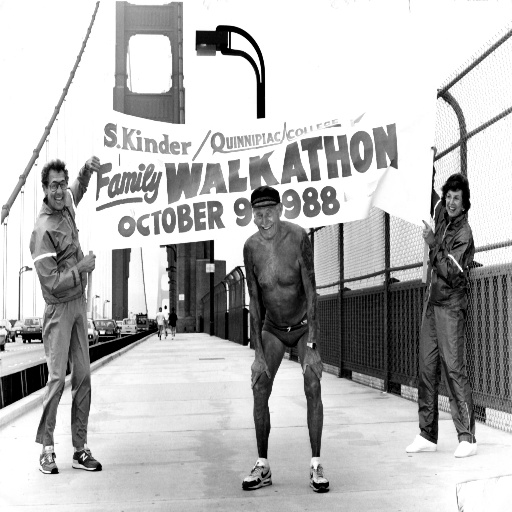hand: (301, 344, 325, 377), (248, 361, 271, 386), (421, 217, 435, 245), (81, 253, 95, 271), (86, 153, 100, 171), (429, 143, 437, 157)
